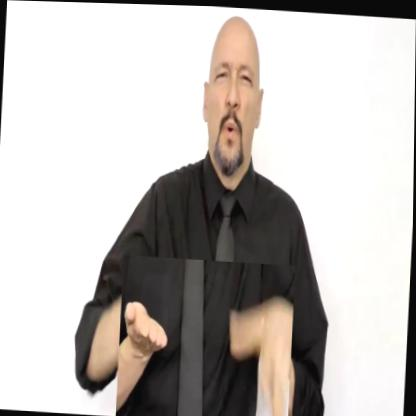Expensive: (116, 254, 296, 416)
